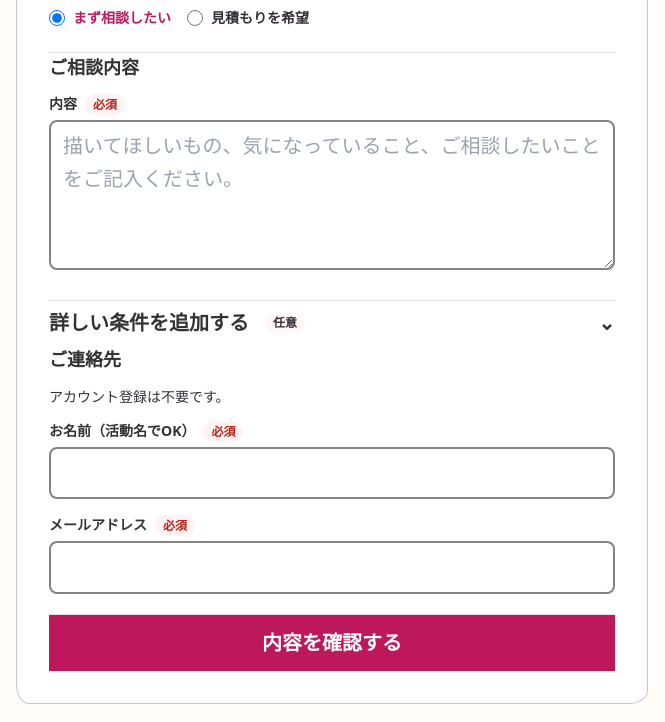
Scenario: 最低入力と送信 › consultation は氏名・メール・相談内容だけで送信できる
(page scrolled)
Type "テスト太郎" into the field labelled "お名前（活動名でOK）必須" at (332, 473), box [49, 447, 615, 499]
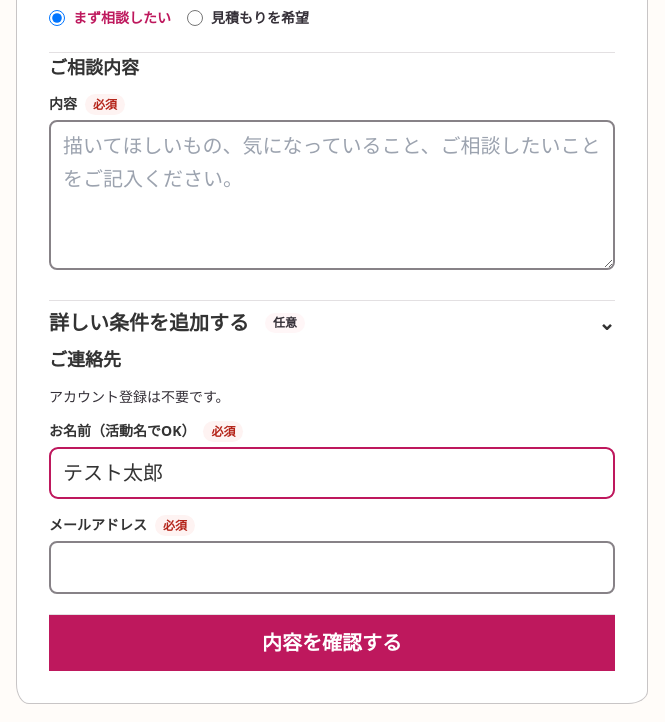
Type "client@example.com" into the field labelled "メールアドレス" at (332, 568), box [49, 541, 615, 594]
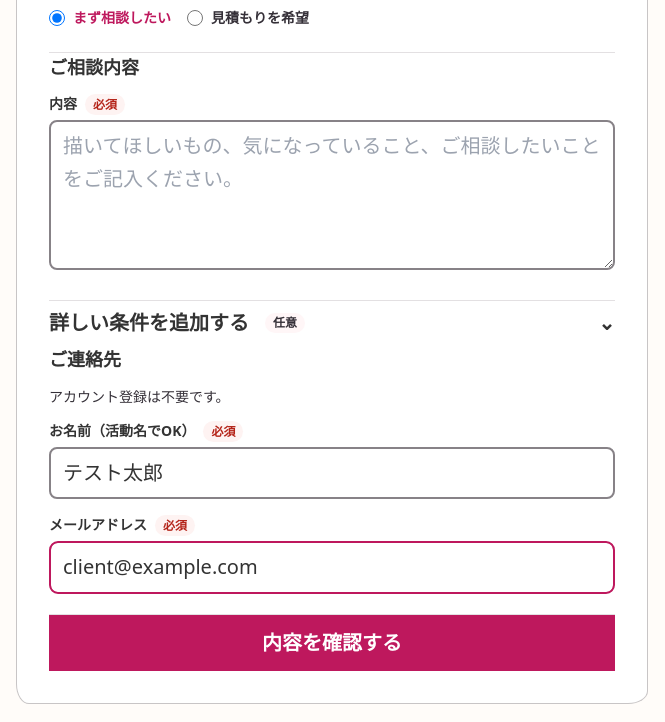
Type "ご相談させてください。" into the text box named "ご相談・ご依頼の内容" at (332, 195), box [49, 120, 615, 270]
(page scrolled)
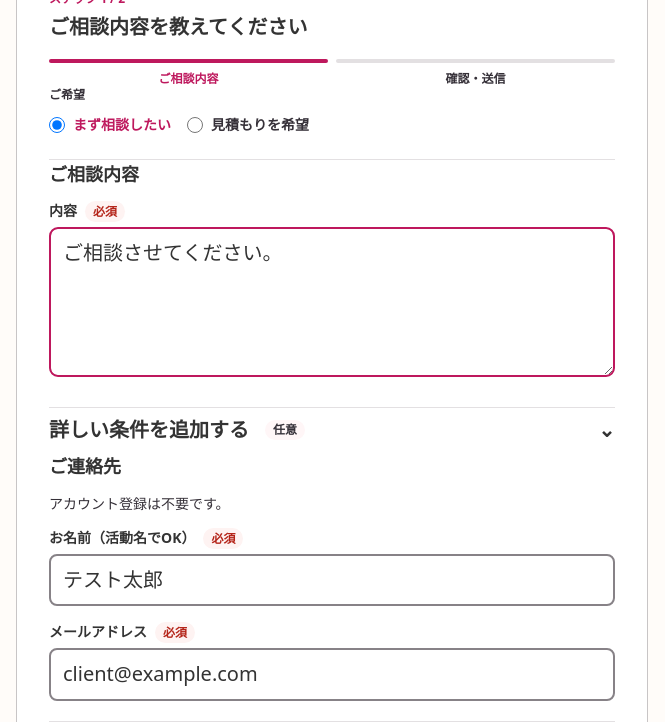
Submit the form
(page scrolled)
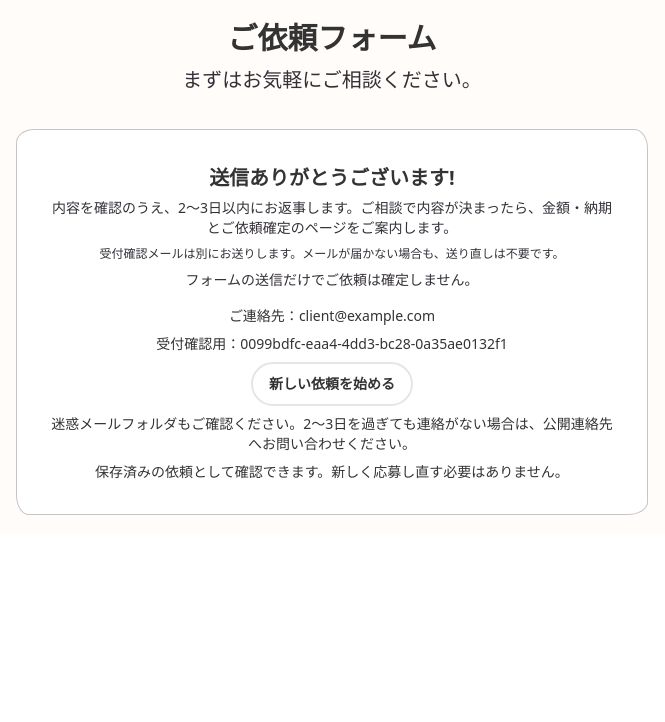
Result: the heading "送信ありがとうございます!" is shown at [209, 164, 455, 190]
